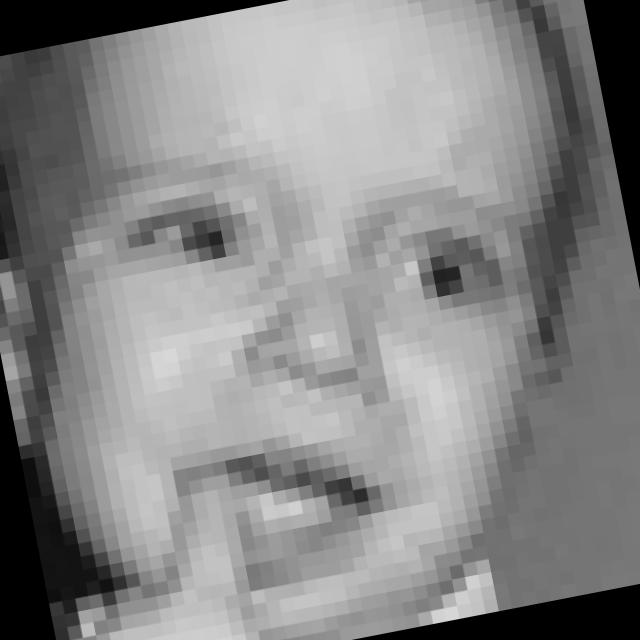fear: (85, 83, 582, 598)
